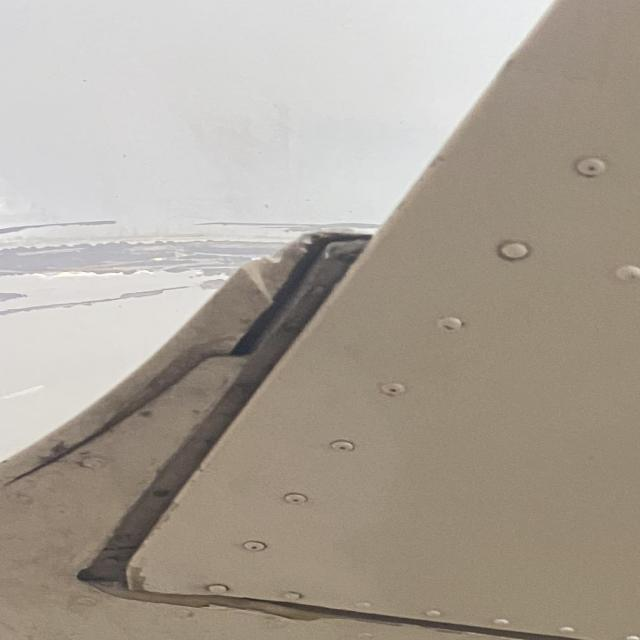Paint-off: (77, 577, 337, 626)
Scratch: (0, 218, 317, 310)
